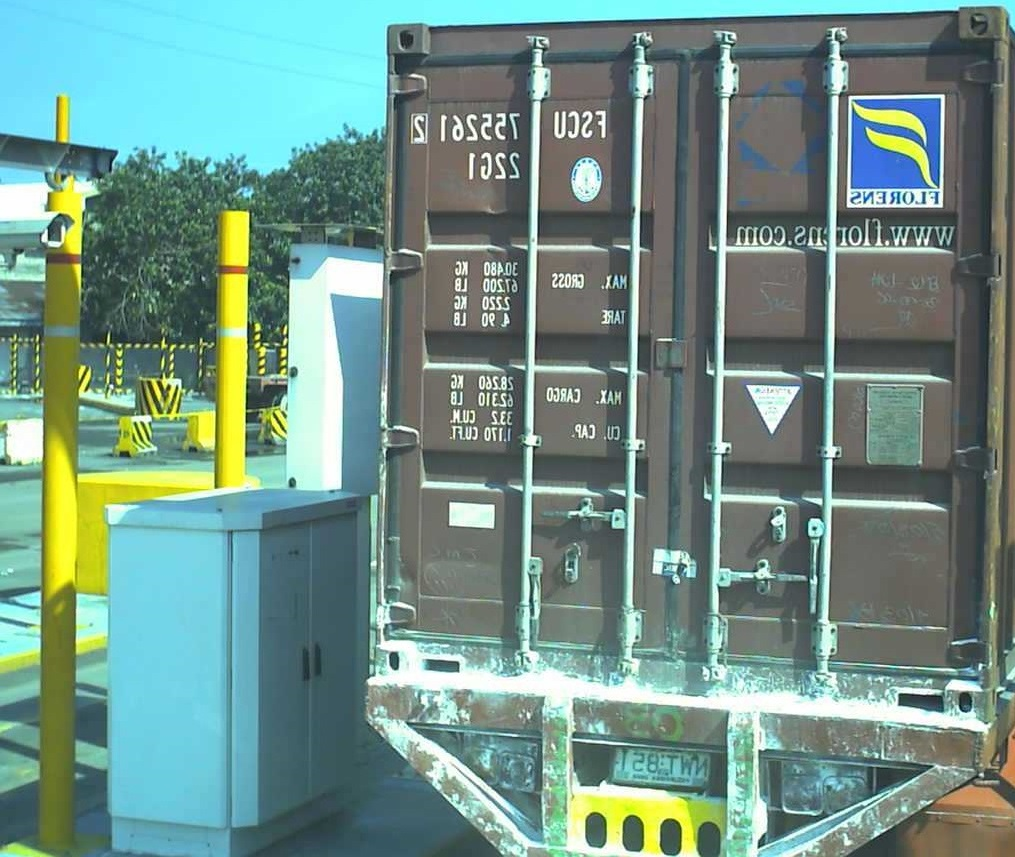container_door: (381, 8, 1008, 727)
